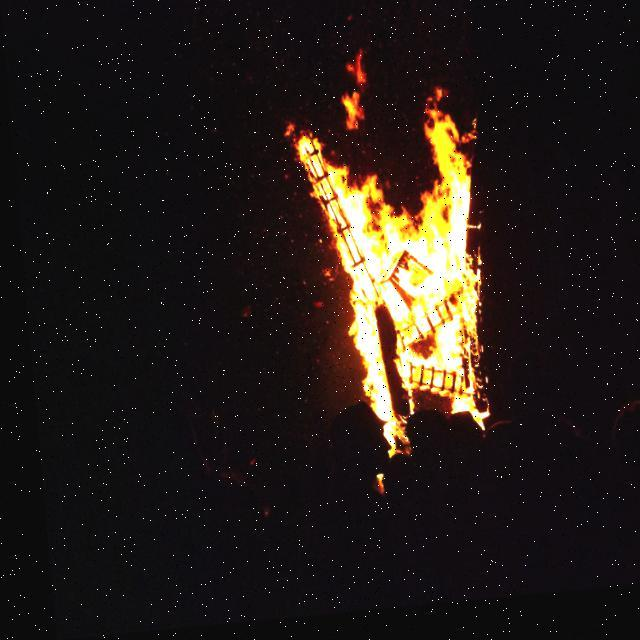Fire: (270, 48, 498, 462)
